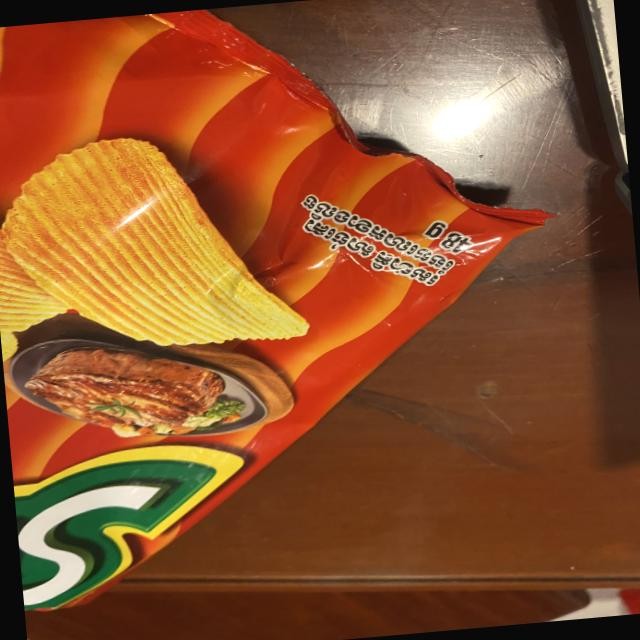1: (280, 208, 455, 291)
760: (417, 212, 487, 261)
Yolov11kh: (294, 189, 460, 279)
